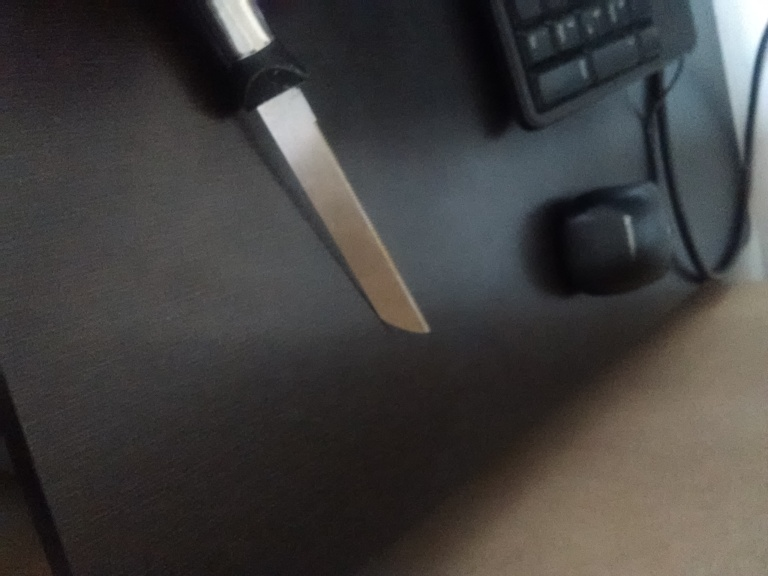knife: (210, 3, 433, 334)
